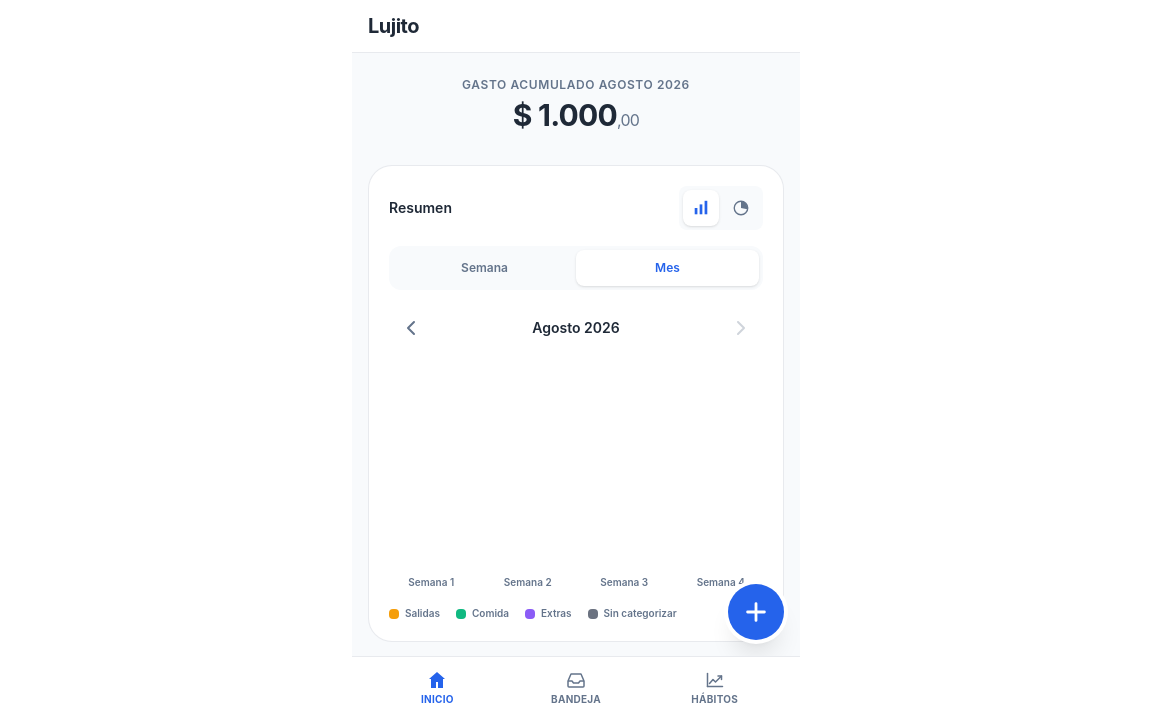
Scenario: PantallaDashboard — FAB de alta manual (Req. 1.1, 1.2, T6) › tocar el FAB abre el modal sobre el dashboard, sin navegar ni desmontar el resto del árbol (Req. 1.2)
Click the button with test id "fab-nuevo-gasto".
click(756, 612)  # box [728,584,784,640]
(page scrolled)
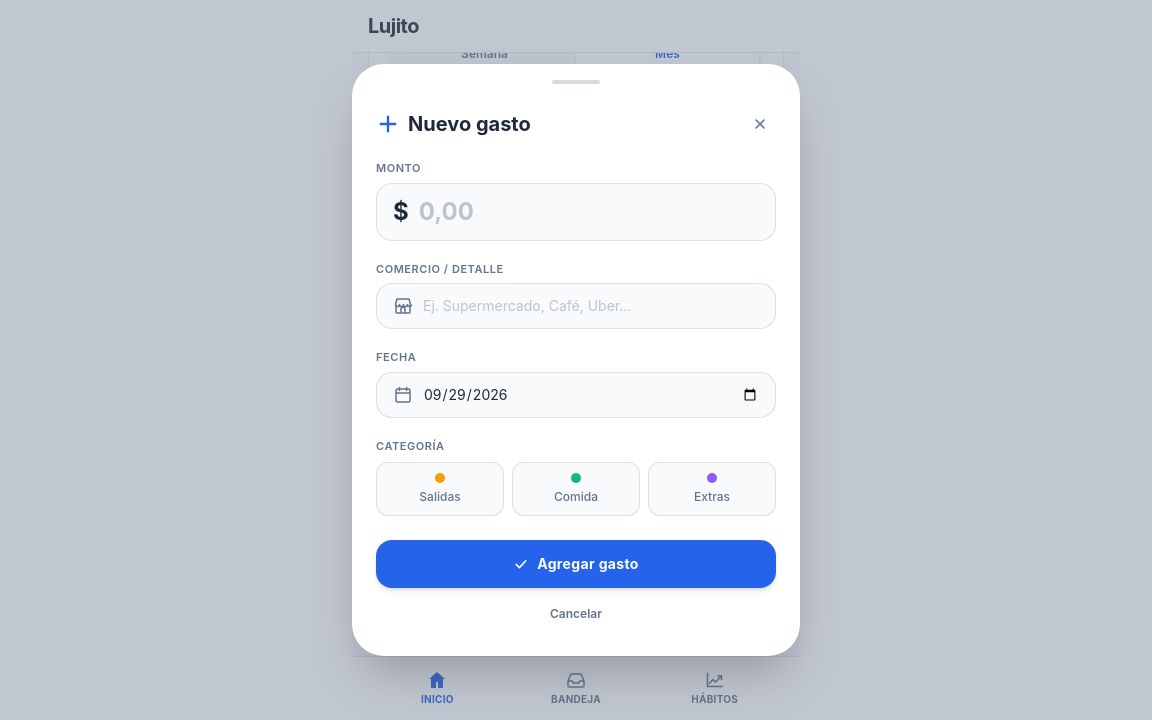
Check: the link with test id "nav-inicio" is shown, box [421,670,454,705]
Check: the form with test id "modal-nuevo-gasto" is shown, box [352,64,800,656]
